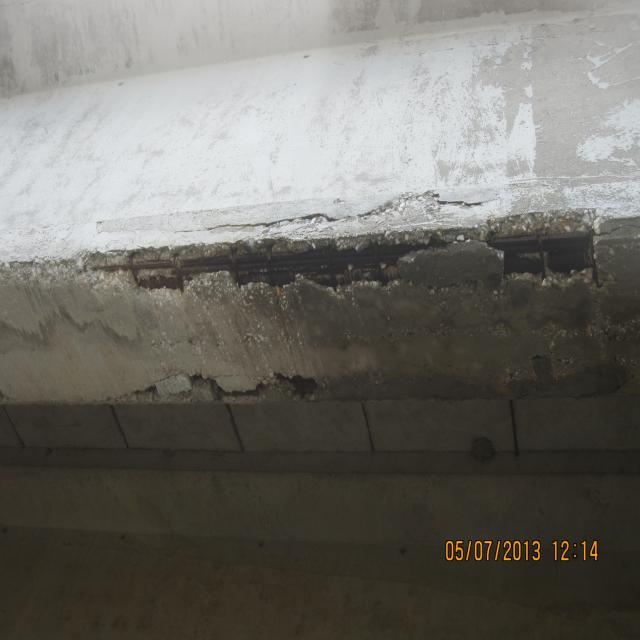corrosion: (112, 236, 450, 287), (481, 224, 594, 283), (240, 363, 324, 406)
